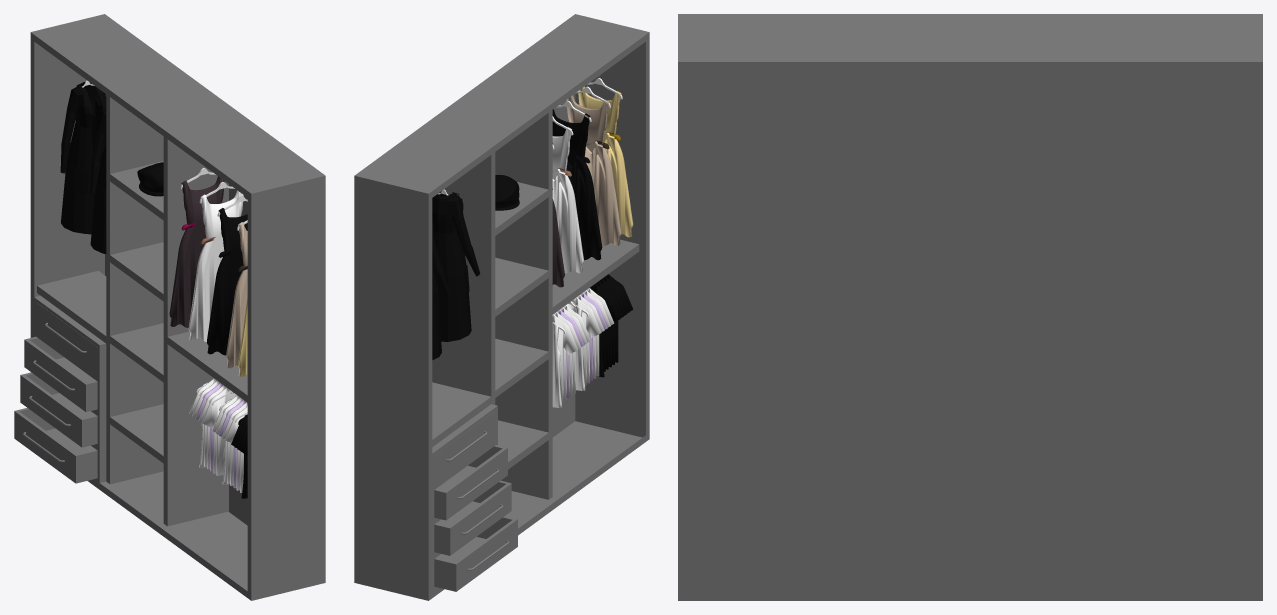
The model's file is uploads_files_2887725_wardrobe.FBX.
The picture shows the model from 3 angles, left to right: view 1: azimuth 30°, elevation 25°; view 2: azimuth 150°, elevation 25°; view 3: azimuth 270°, elevation 25°; orthographic projection. The views are drawn at different scales.
Visible parts, largest first — view 1: huwtsasnii shvvgee, Cloth:CoatClothes, Group_206, Box020, Group_208, Group_214, Box022, Box024, Cloth:CoatClothes001, Box026, Group_210, Group_273 (+4 smaller); view 2: huwtsasnii shvvgee, Cloth:CoatClothes001, Group_210, Box020, Group_214, Box022, Box024, Group_208, Group_212, Box026, Cloth:CoatClothes, Che (+7 smaller); view 3: huwtsasnii shvvgee.
Part boxes in pixels (box(x1,y1,x2,y2)): huwtsasnii shvvgee: box(30, 14, 325, 600); Cloth:CoatClothes: box(60, 82, 106, 234); Group_206: box(169, 176, 224, 327); Box020: box(14, 407, 97, 483); Group_208: box(188, 190, 243, 341); Group_214: box(207, 208, 247, 355); Box022: box(20, 372, 97, 447); Box024: box(24, 337, 97, 411); Cloth:CoatClothes001: box(90, 109, 106, 253); Box026: box(36, 302, 97, 374); Group_210: box(226, 222, 247, 368); Group_273: box(201, 388, 236, 475); huwtsasnii shvvgee: box(354, 14, 649, 600); Cloth:CoatClothes001: box(432, 191, 479, 341); Group_210: box(566, 95, 621, 245); Box020: box(434, 516, 517, 591); Group_214: box(552, 109, 602, 260); Box022: box(434, 480, 511, 555); Box024: box(434, 445, 507, 520); Group_208: box(552, 127, 583, 273); Group_212: box(578, 86, 633, 237); Box026: box(434, 411, 495, 482); Cloth:CoatClothes: box(432, 220, 450, 360); Che: box(495, 175, 519, 210); huwtsasnii shvvgee: box(678, 14, 1262, 600).
Size of the model in its own units: 30.48 by 118 by 116.
